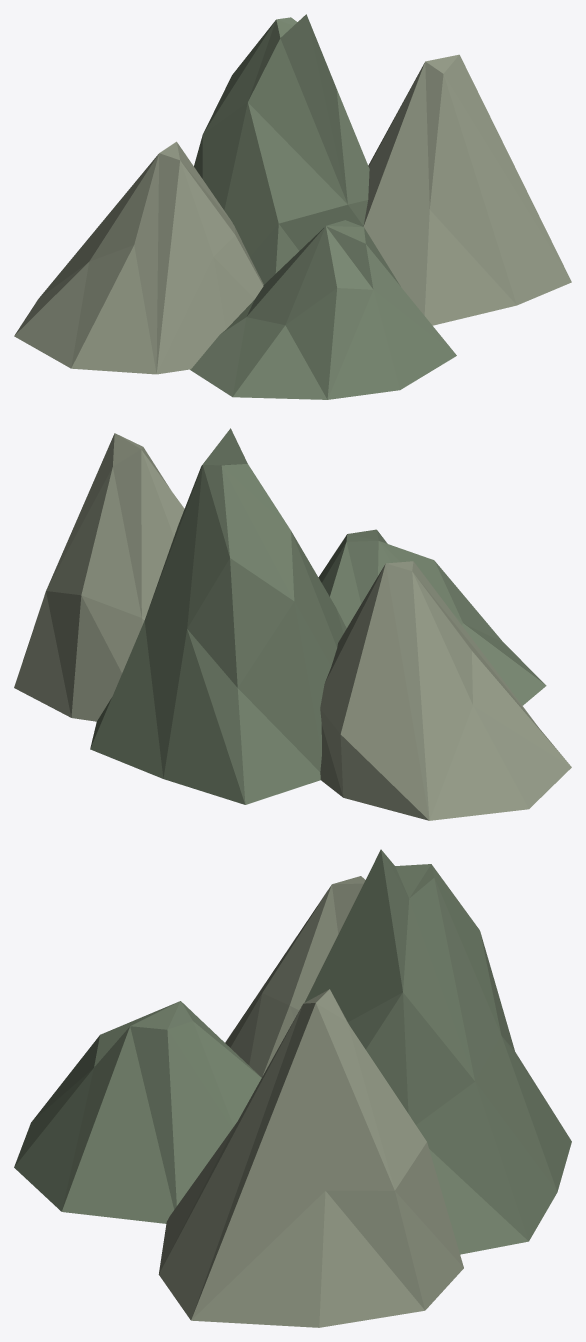
The picture shows the model from 3 angles, top to bottom: view 1: azimuth 30°, elevation 25°; view 2: azimuth 150°, elevation 25°; view 3: azimuth 270°, elevation 25°; orthographic projection. The views are drawn at different scales.
Visible parts, largest first — view 1: peak_0.001; view 2: peak_0.001; view 3: peak_0.001.
Part boxes in pixels (<box>): peak_0.001: <box>14,14,571,399</box>; peak_0.001: <box>14,428,571,820</box>; peak_0.001: <box>14,849,571,1327</box>.
Bounding box in the file's own units: 24.56 × 12.86 × 18.61.
